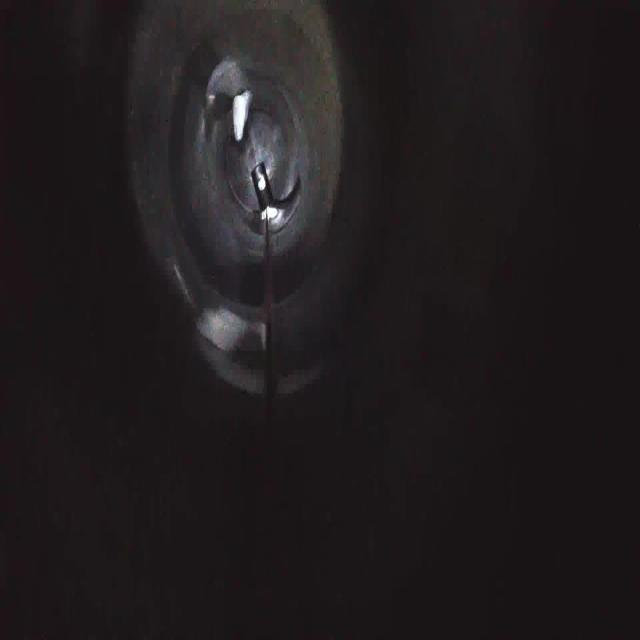impurity: (227, 80, 255, 146)
